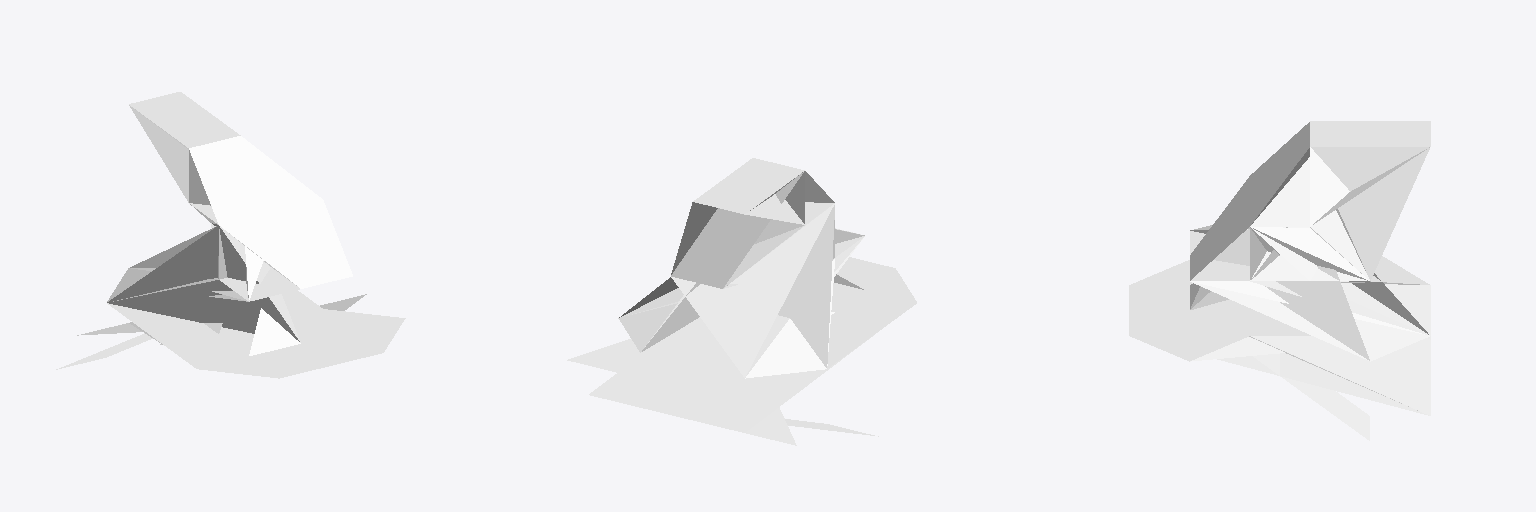
File: BowGoblin_Attack0.obj
The picture shows the model from 3 angles: view 1: azimuth 30°, elevation 25°; view 2: azimuth 150°, elevation 25°; view 3: azimuth 270°, elevation 25°; orthographic projection.
Bounding box in the file's own units: 6 × 4 × 5.